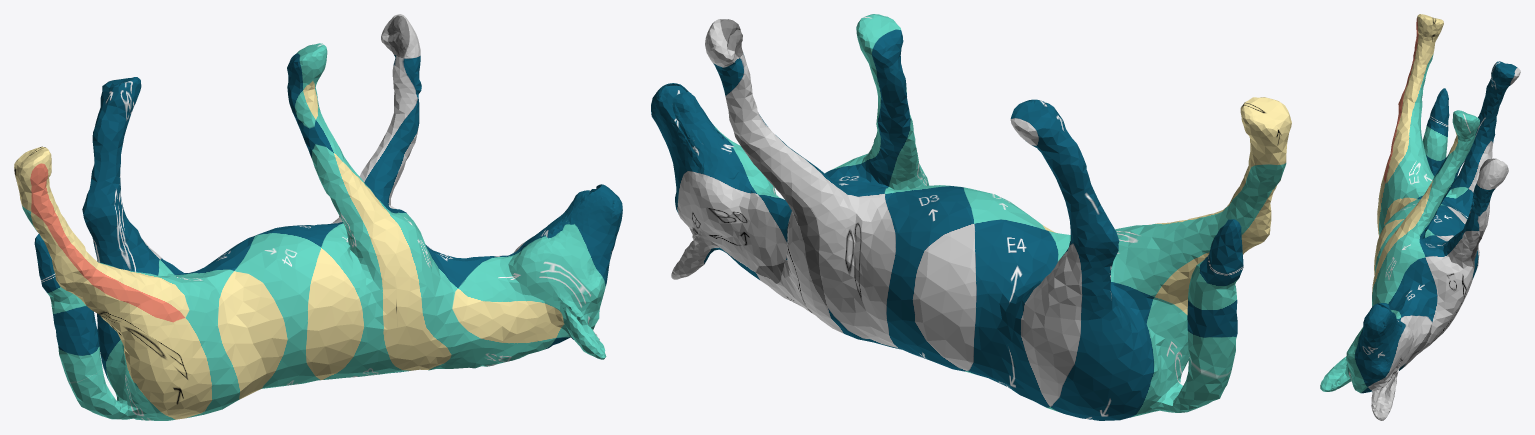
File: lion_05-horse_04.obj
3 renders of one model, left to right at view 1: azimuth 30°, elevation 25°; view 2: azimuth 150°, elevation 25°; view 3: azimuth 270°, elevation 25°, orthographic. The views are drawn at different scales.
Visible parts, largest first — view 1: lion_05-horse_04_export; view 2: lion_05-horse_04_export; view 3: lion_05-horse_04_export.
Part boxes in pixels (left/top/right/bottom): lion_05-horse_04_export: left=14, top=14, right=622, bottom=420; lion_05-horse_04_export: left=651, top=14, right=1291, bottom=420; lion_05-horse_04_export: left=1320, top=14, right=1520, bottom=420.
Bounding box in the file's own units: 1.09 × 0.5769 × 0.4582.
